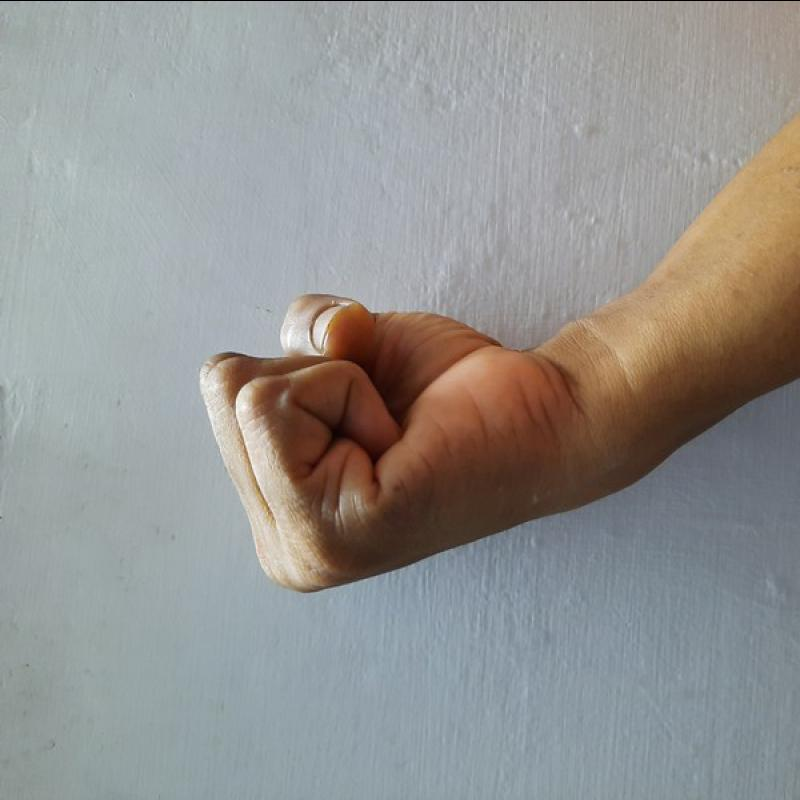Mushti: (189, 273, 556, 607)
